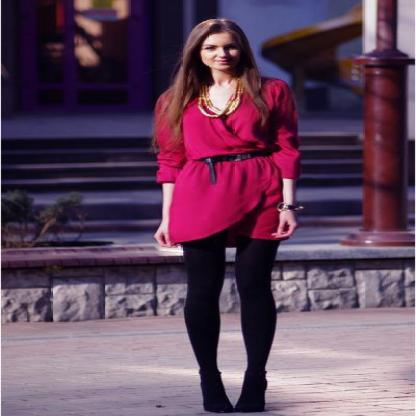dress: (154, 80, 298, 245)
pants: (171, 212, 286, 400)
shoe: (203, 395, 267, 413)
